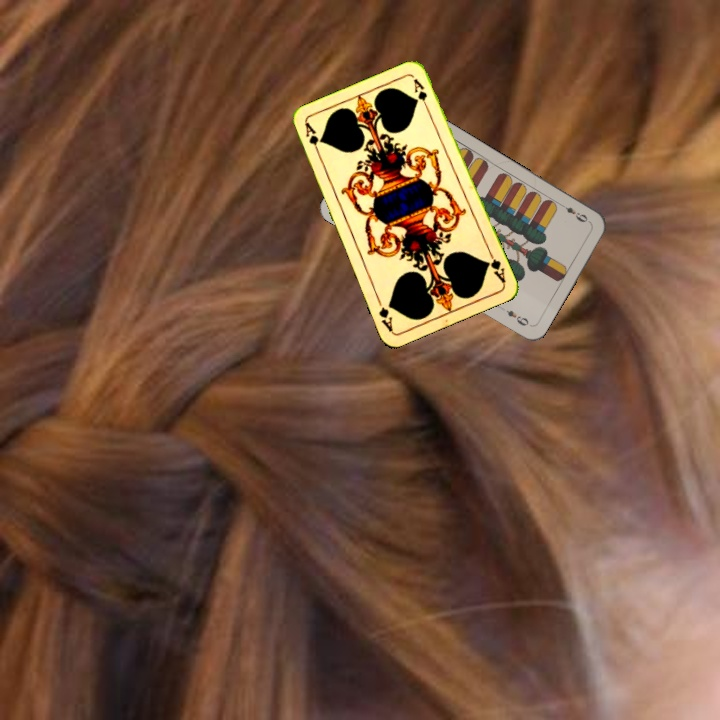E9: (557, 200, 591, 225)
GA: (482, 247, 508, 286), (301, 119, 323, 158)
